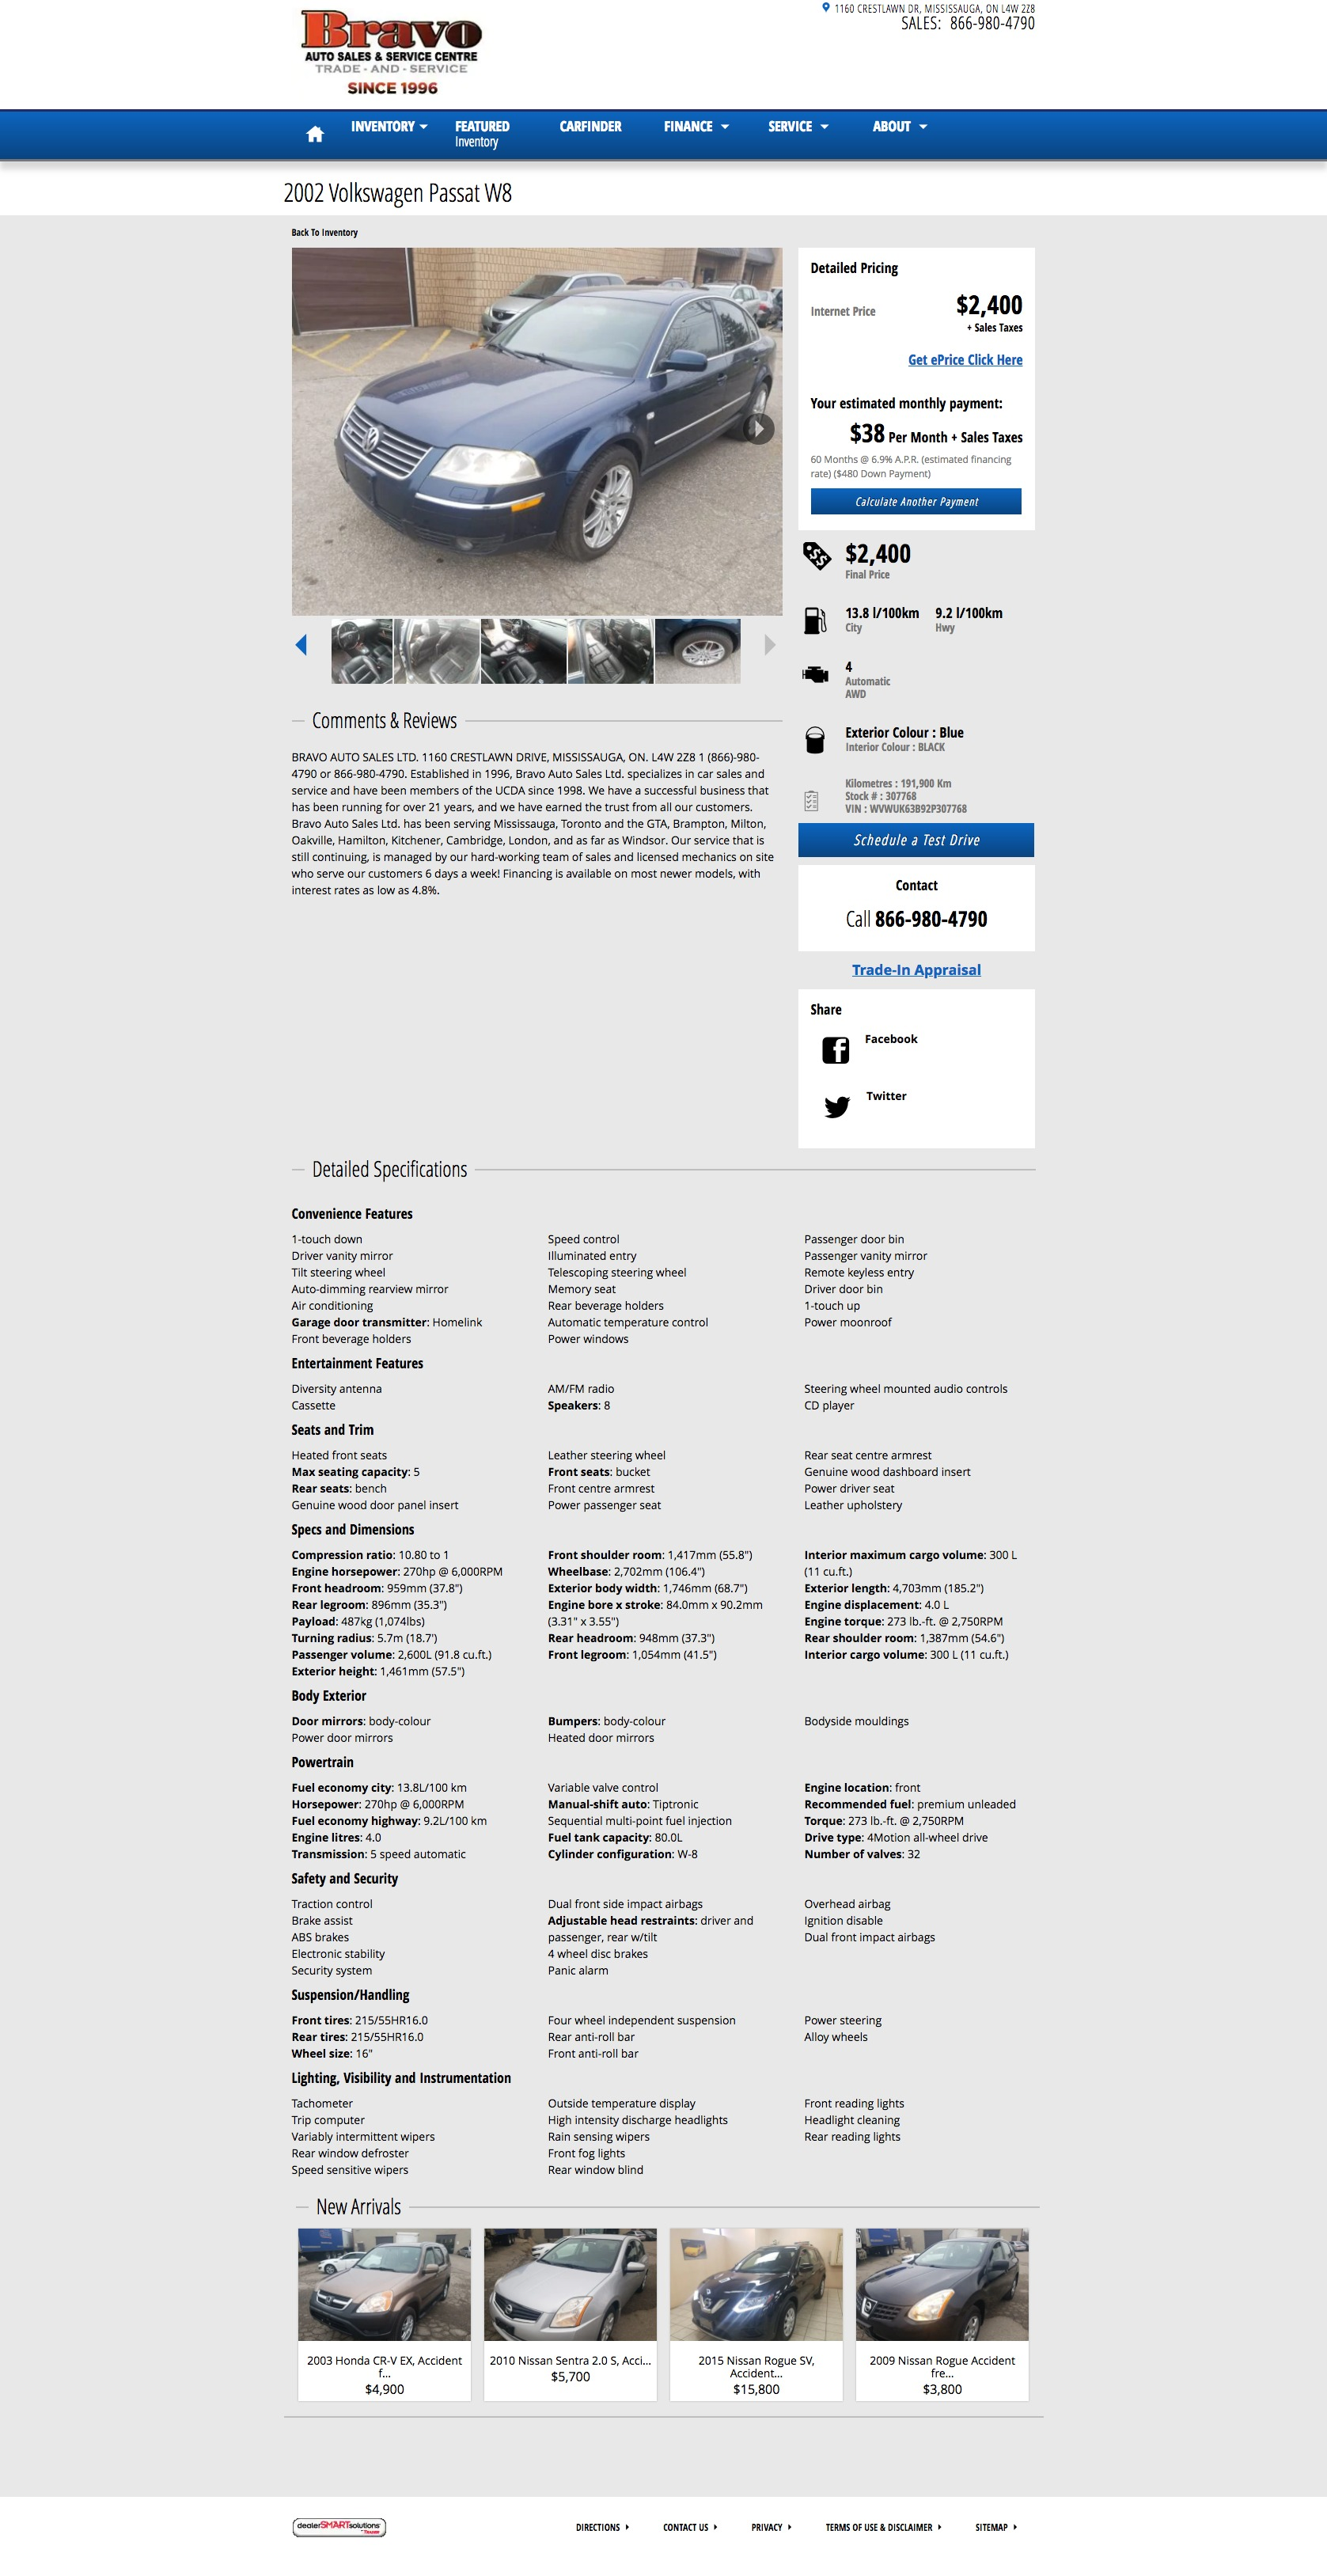car: (765, 635, 777, 657)
